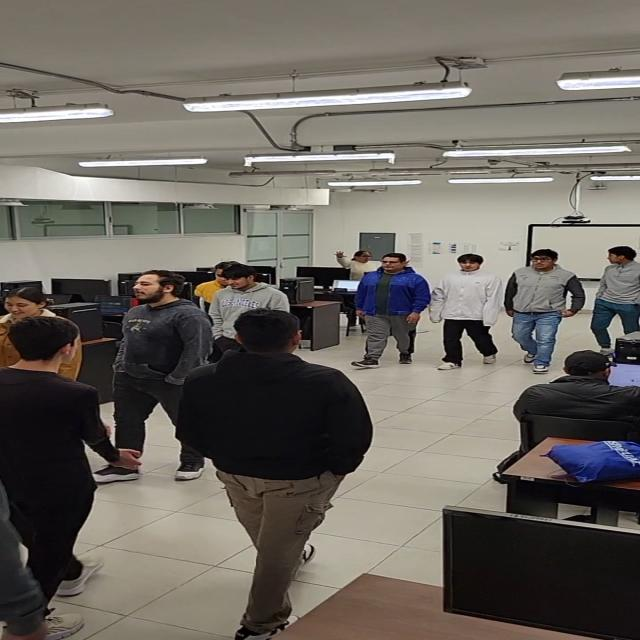Persona: (182, 306, 368, 639), (0, 314, 99, 604), (108, 264, 217, 482), (508, 247, 590, 374), (435, 252, 506, 372), (356, 254, 426, 367), (593, 243, 640, 359)
